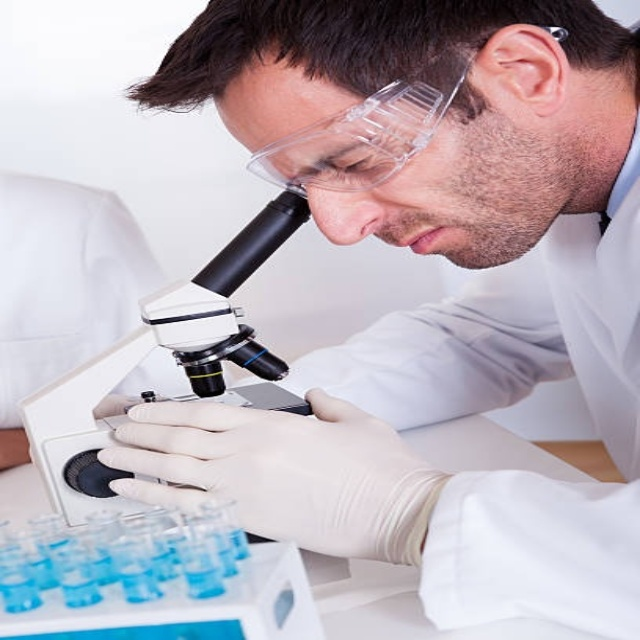Gafas: (245, 28, 563, 197)
Guantes: (103, 389, 454, 564)
Sin_mascara: (386, 204, 516, 269)
